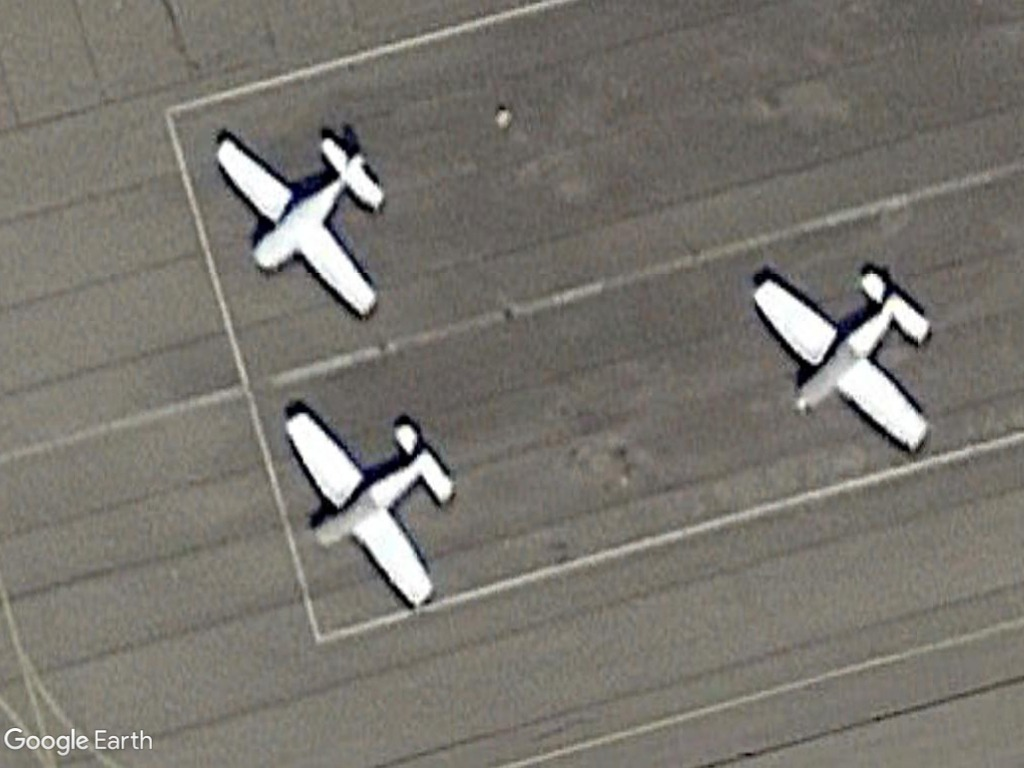trainer: (277, 401, 461, 617), (743, 263, 940, 460), (205, 126, 397, 323)
